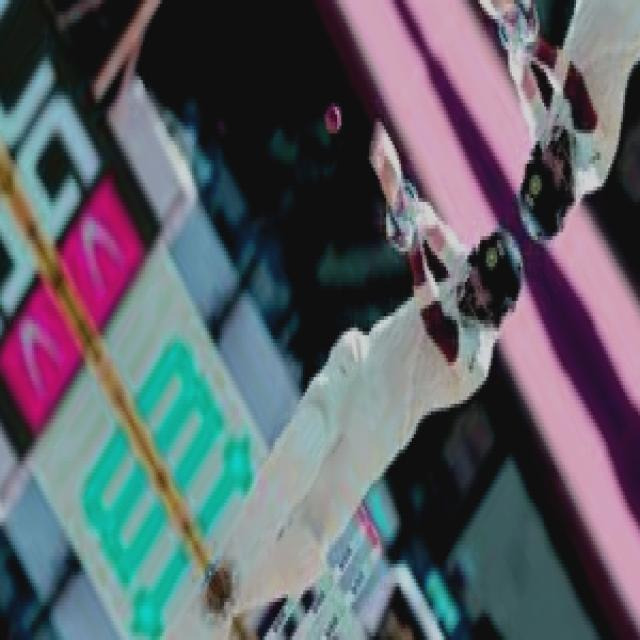toe: (370, 118, 389, 181)
